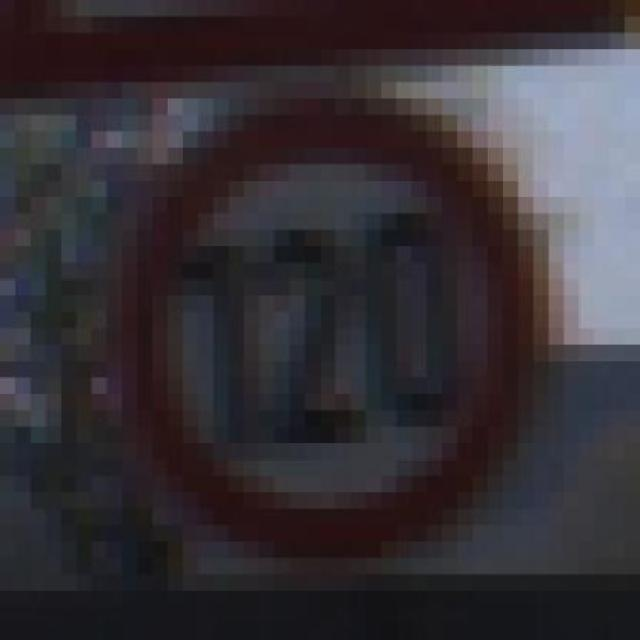forb_speed_over_120: (123, 102, 537, 556)
